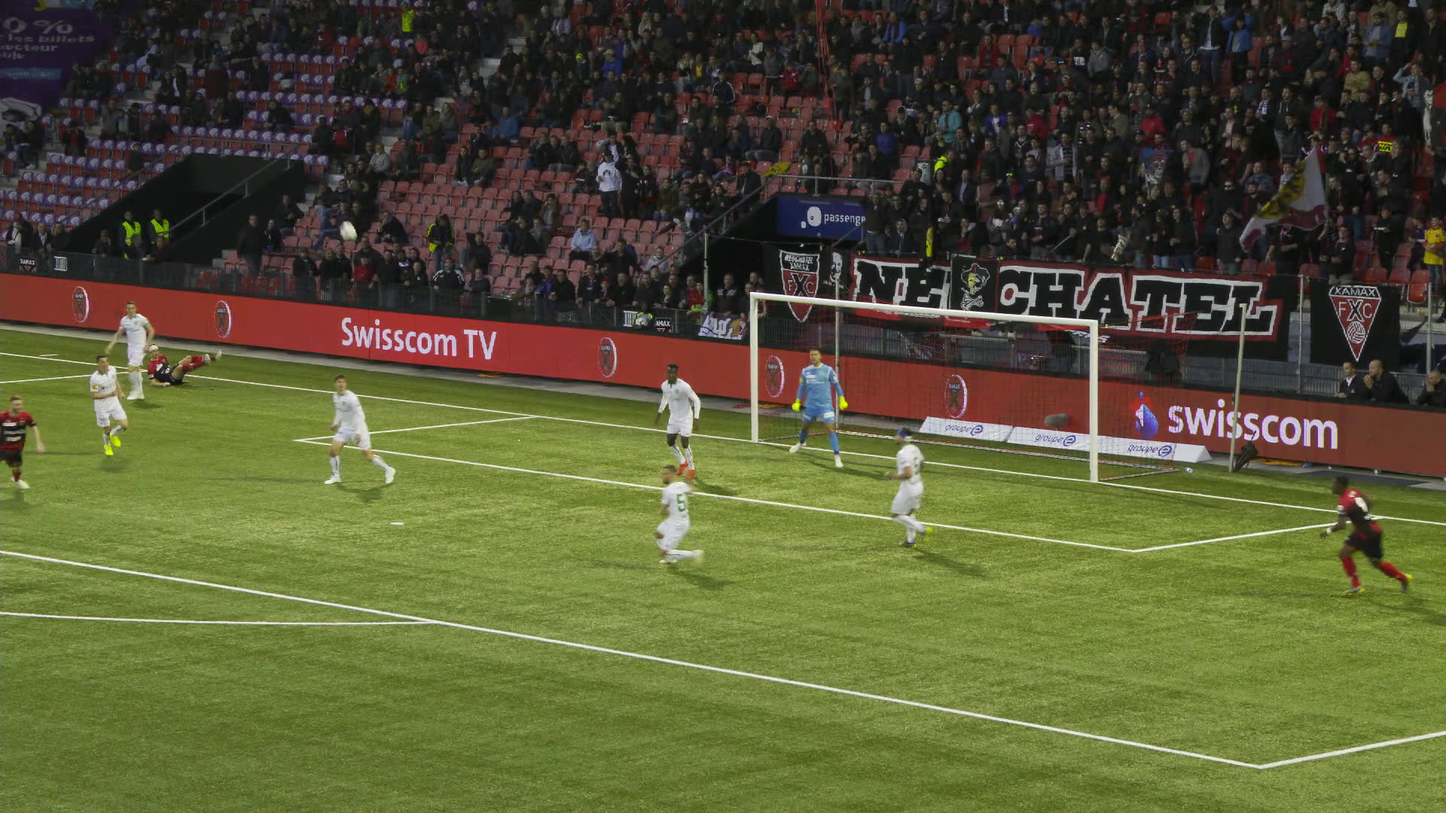ball: (340, 220, 355, 239)
player: (1325, 477, 1404, 597), (648, 462, 714, 569), (330, 373, 392, 484), (788, 349, 845, 466), (886, 427, 935, 552), (649, 364, 699, 480), (109, 303, 163, 400), (84, 350, 127, 455), (0, 395, 44, 489), (146, 336, 218, 388)
